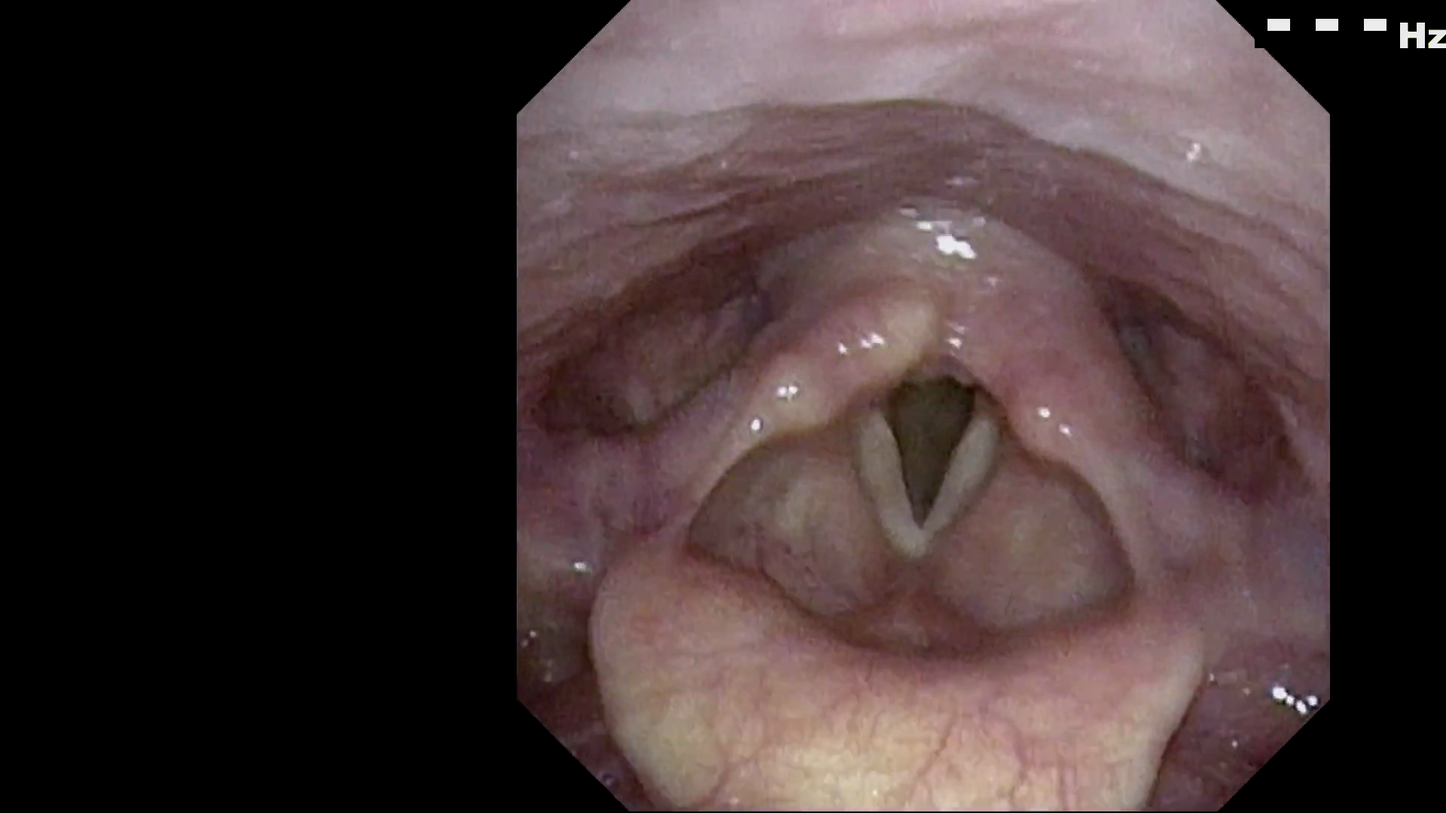epiglottis: (597, 537, 1220, 760)
trachea: (850, 341, 1026, 556)
